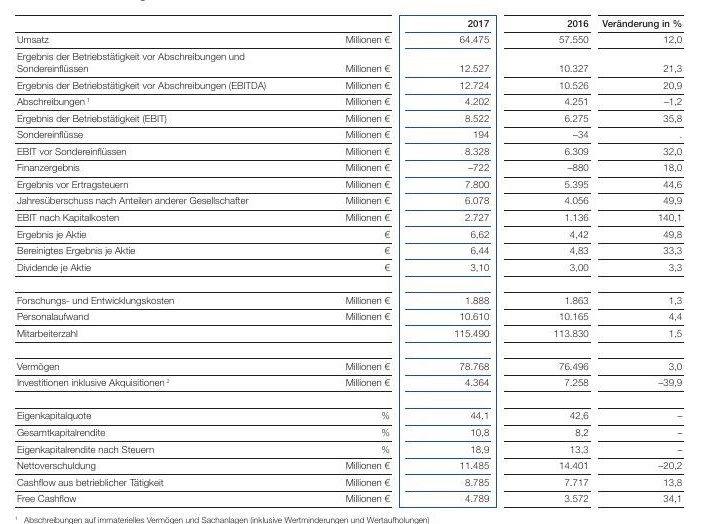table: (0, 0, 701, 524)
